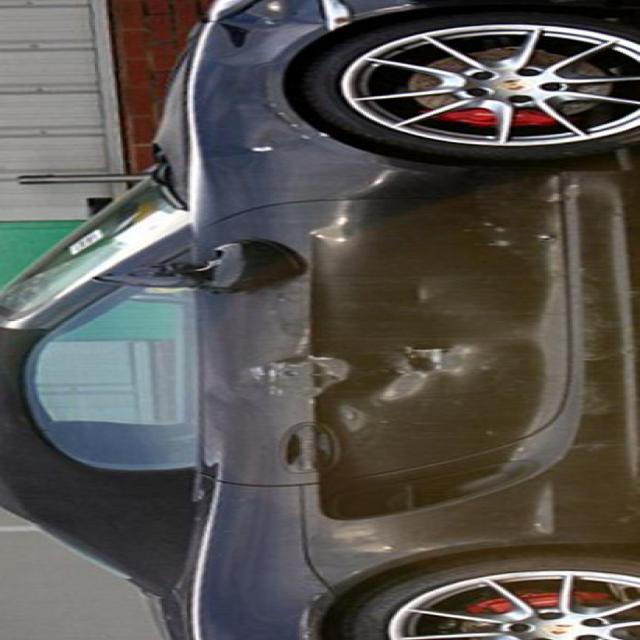dent: (216, 315, 484, 432)
